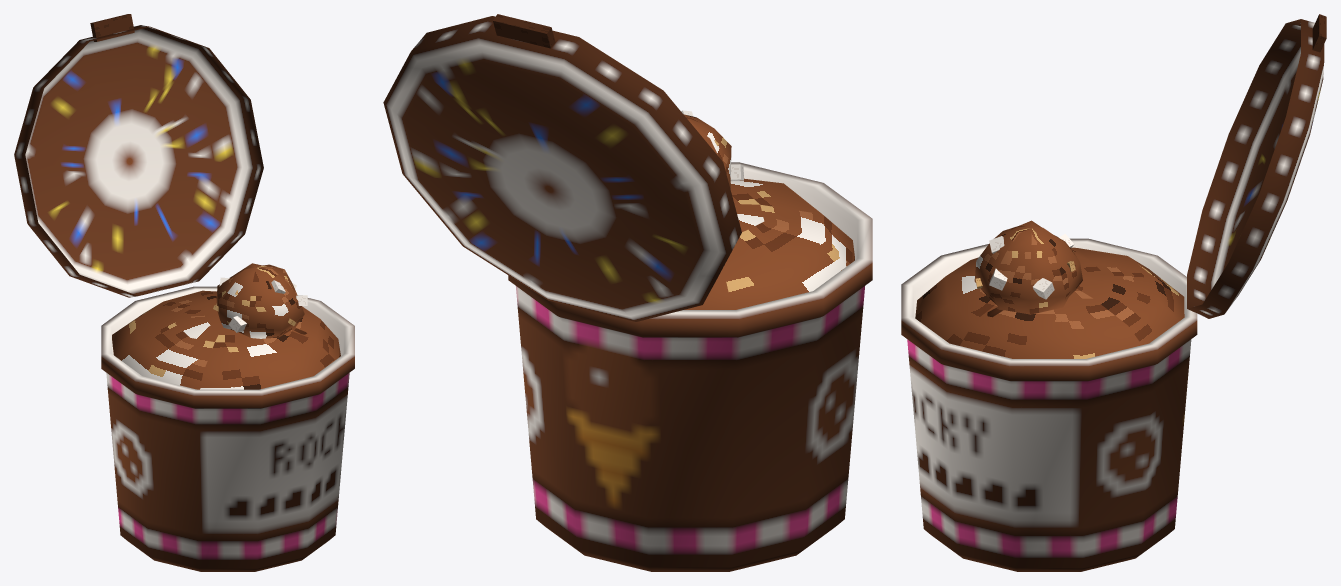
The model's file is Flavor Tub Rocky Road.fbx.
3 renders of one model, left to right at view 1: azimuth 30°, elevation 25°; view 2: azimuth 150°, elevation 25°; view 3: azimuth 270°, elevation 25°, orthographic. The views are drawn at different scales.
Parts seen in each view (by area): view 1: Flavor Tub Rocky Road lid, Flavor Tub Rocky Road tub, Flavor Tub Rocky Road ice cream, Flavor Tub Rocky Road swirl, Flavor Tub Rocky Road lid tab; view 2: Flavor Tub Rocky Road tub, Flavor Tub Rocky Road lid, Flavor Tub Rocky Road ice cream, Flavor Tub Rocky Road lid tab, Flavor Tub Rocky Road swirl; view 3: Flavor Tub Rocky Road tub, Flavor Tub Rocky Road lid, Flavor Tub Rocky Road ice cream, Flavor Tub Rocky Road swirl.
Boxes of the visible parts, box(x1,y1,x2,y2) form: Flavor Tub Rocky Road lid: box(14, 25, 263, 297); Flavor Tub Rocky Road tub: box(101, 286, 354, 571); Flavor Tub Rocky Road ice cream: box(112, 290, 340, 389); Flavor Tub Rocky Road swirl: box(216, 263, 306, 338); Flavor Tub Rocky Road lid tab: box(90, 14, 134, 41); Flavor Tub Rocky Road tub: box(508, 162, 872, 571); Flavor Tub Rocky Road lid: box(383, 16, 741, 321); Flavor Tub Rocky Road ice cream: box(684, 178, 854, 309); Flavor Tub Rocky Road lid tab: box(493, 14, 555, 48); Flavor Tub Rocky Road swirl: box(683, 114, 731, 188); Flavor Tub Rocky Road tub: box(901, 238, 1197, 571); Flavor Tub Rocky Road lid: box(1187, 19, 1324, 318); Flavor Tub Rocky Road ice cream: box(915, 247, 1184, 358); Flavor Tub Rocky Road swirl: box(974, 220, 1082, 317).
Bounding box in the file's own units: 0.3033 × 0.5406 × 0.4191.
6 materials, 6 textured.
